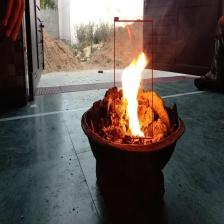fire: (114, 20, 153, 139)
